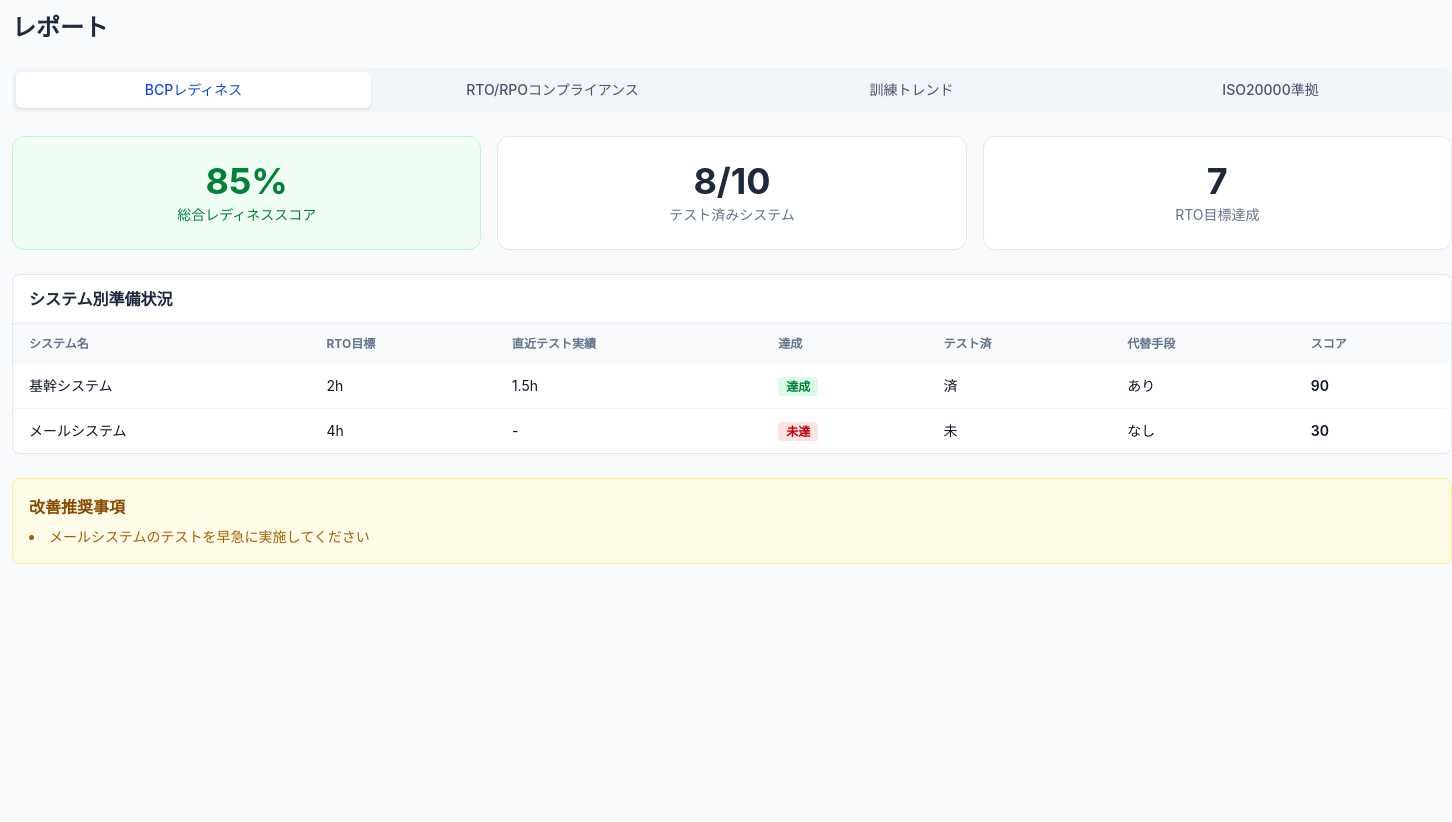
Test: ReportsPage trends tab › renders total exercises count
Expected: the text "総合レディネススコア" is shown, x1=177 y1=206 x2=316 y2=223
Click the button "訓練トレンド": (912, 90) x1=734 y1=72 x2=1089 y2=108
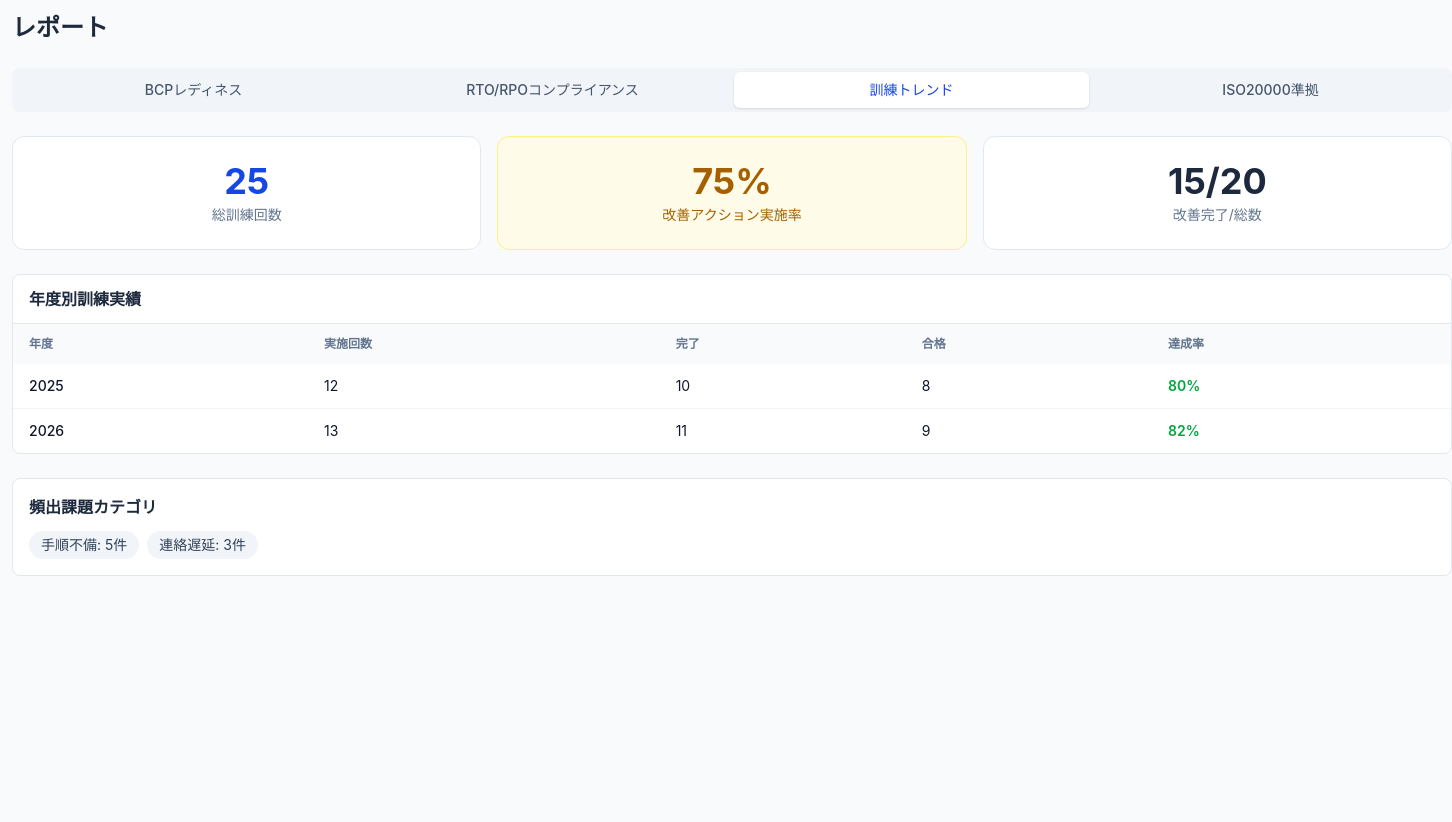
Expected: the text "25" is shown, x1=224 y1=159 x2=269 y2=203
Expected: the text "総訓練回数" is shown, x1=212 y1=206 x2=282 y2=223
